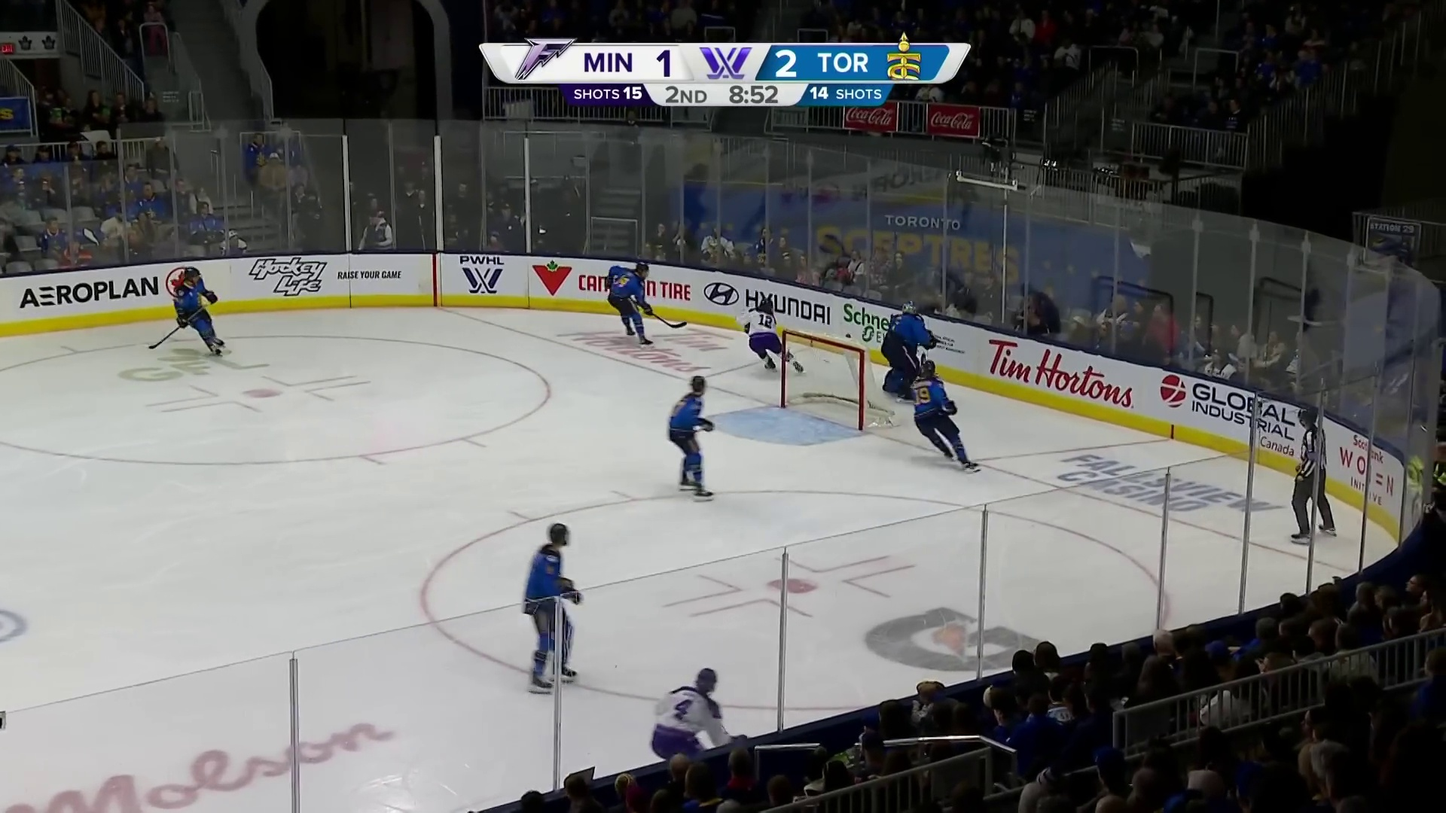goaltender: (880, 301, 938, 399)
player: (523, 522, 585, 695), (912, 358, 982, 476), (668, 375, 715, 501), (173, 265, 226, 356), (606, 260, 655, 349)
